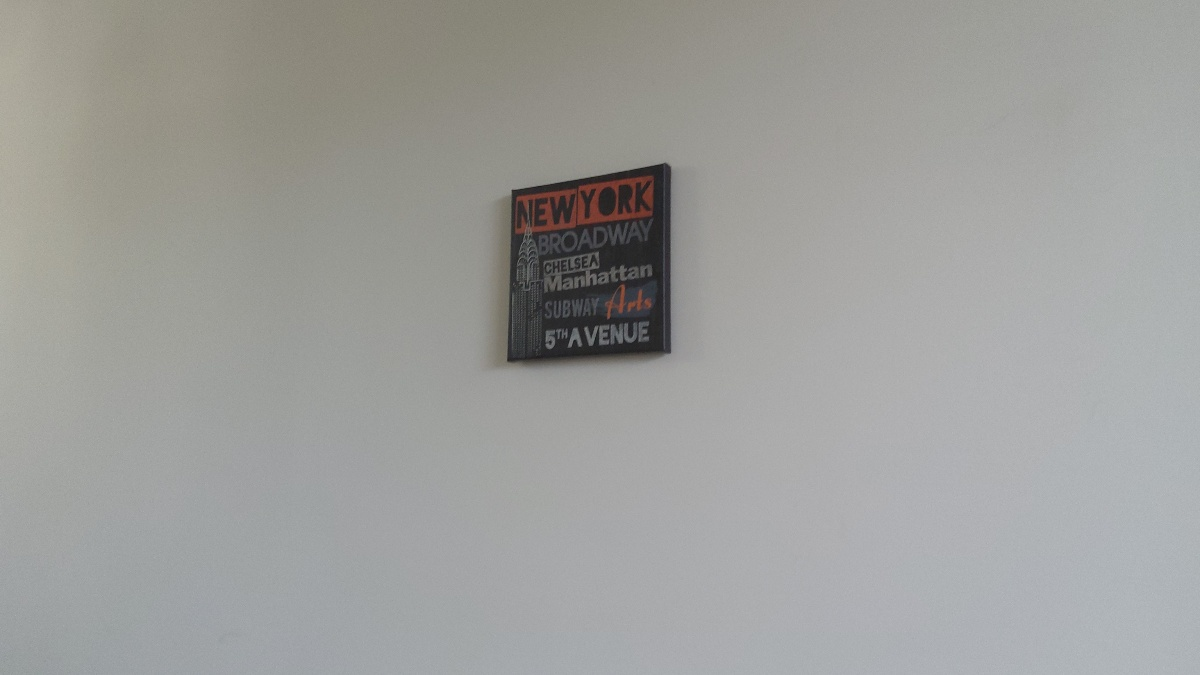poster: (498, 145, 679, 368)
